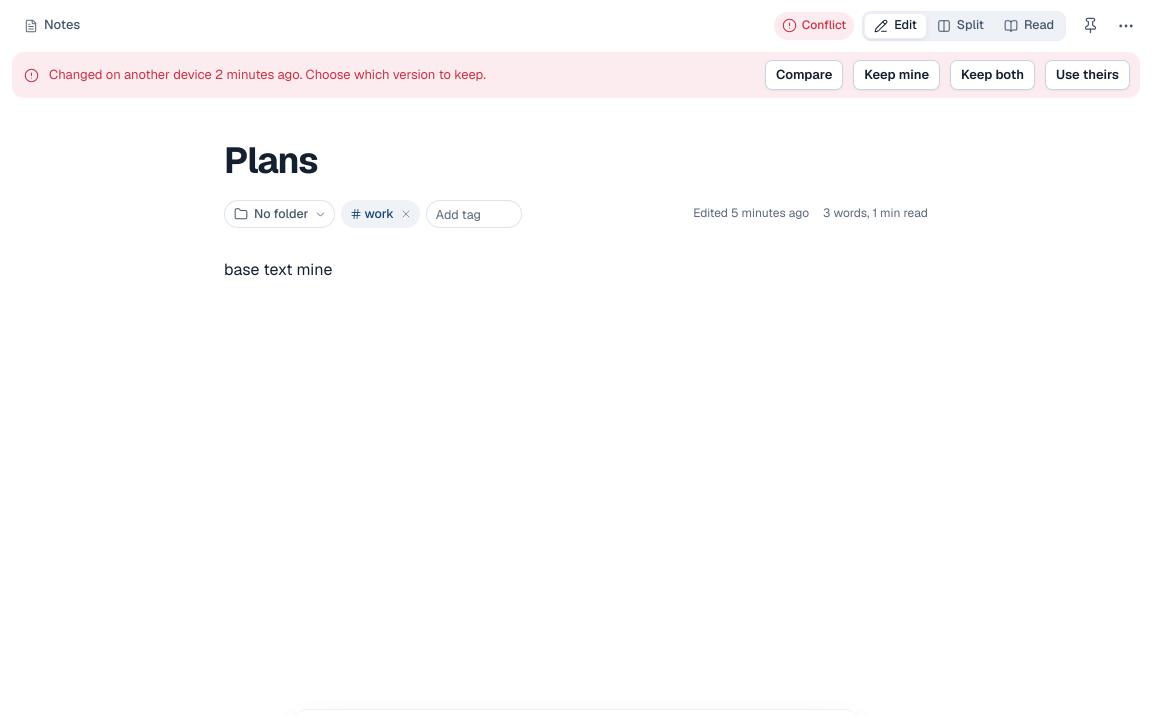
Scenario: a conflict with another device › Keep mine saves this device’s text over theirs, which stays in the note’s history
Click the button "Keep mine": (897, 75) [853, 60, 940, 90]
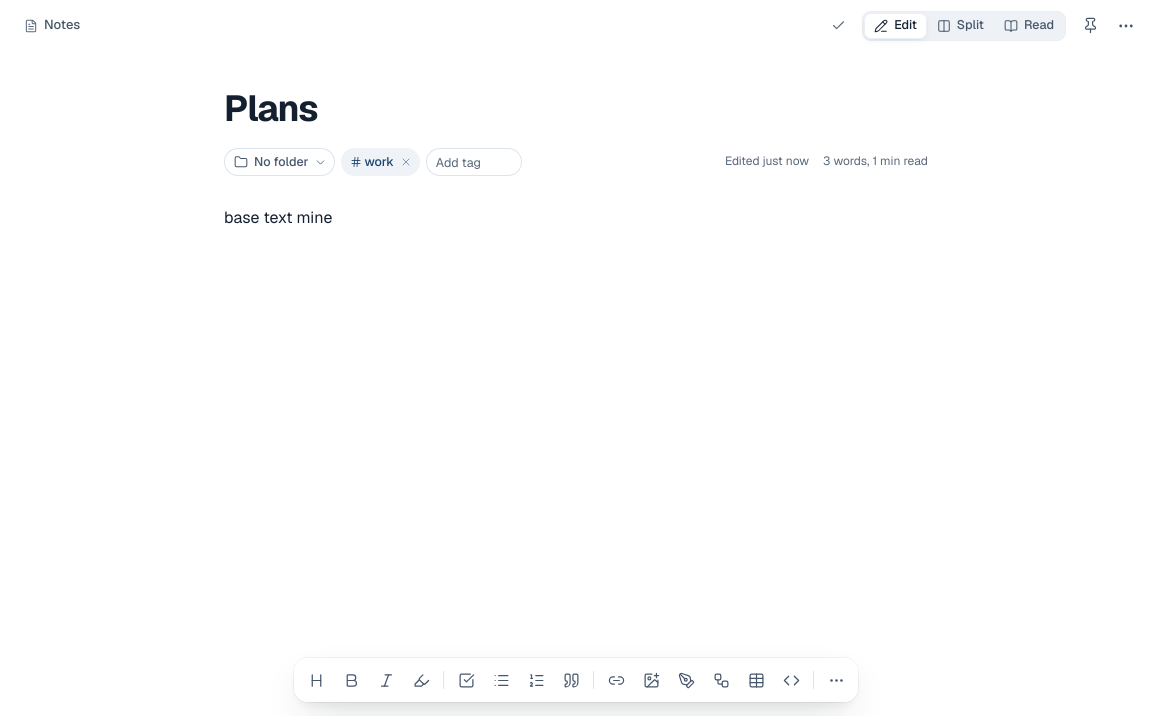
Expected: the text box labelled "base text mine" is shown, [224, 207, 332, 228]
Expected: the message with class "alert-danger" is gone
